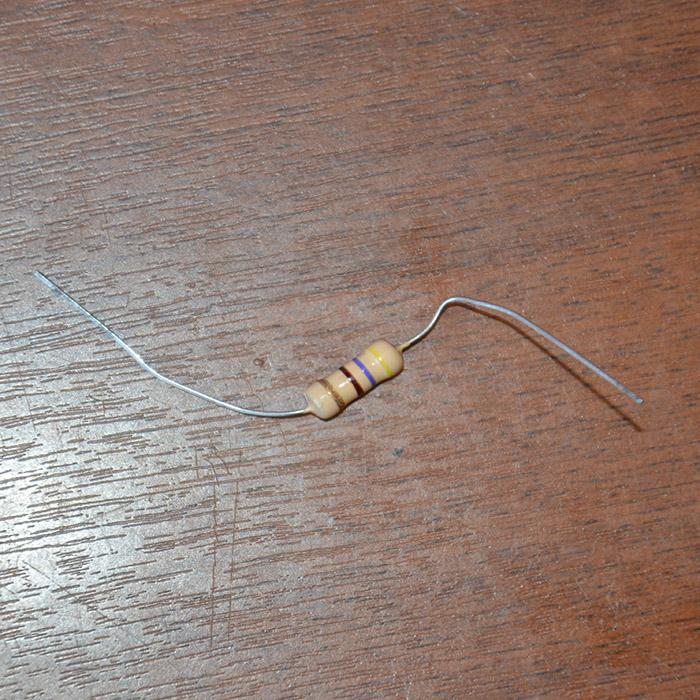resistor: (301, 337, 407, 422)
